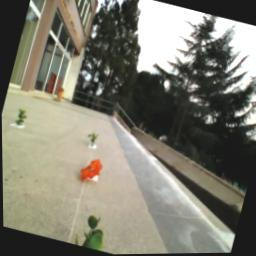herb: (72, 212, 110, 252), (12, 106, 31, 130), (86, 130, 100, 150)
wild: (77, 154, 107, 188)
